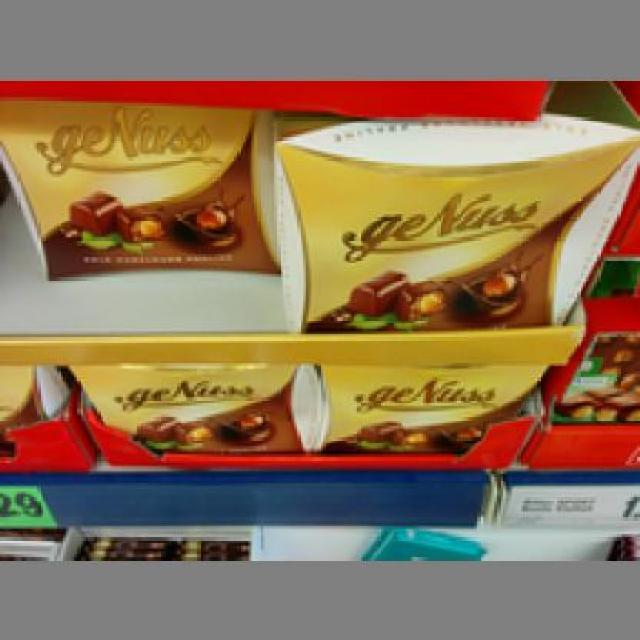Chocolate: (270, 112, 626, 328), (0, 97, 275, 283)
